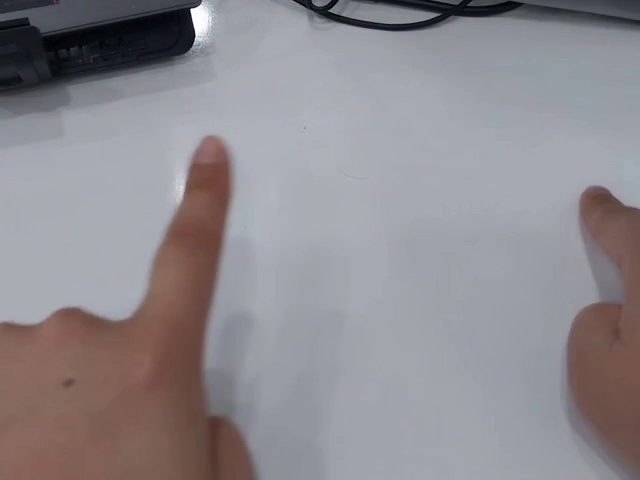fingers: (185, 135, 233, 191), (578, 183, 627, 236)
